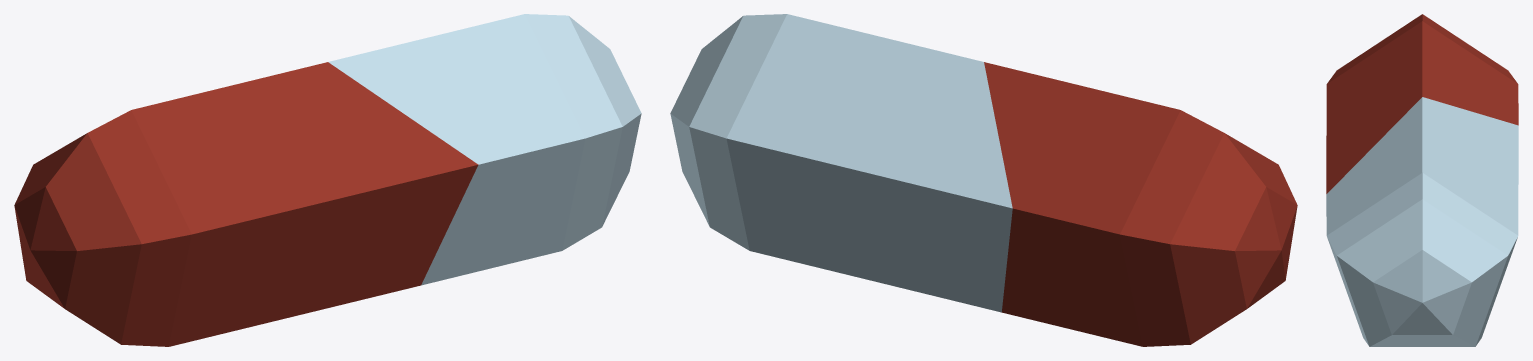
The model's file is SM_Prop_Pills_04.fbx.
3 views of the same model, side by side, from view 1: azimuth 30°, elevation 25°; view 2: azimuth 150°, elevation 25°; view 3: azimuth 270°, elevation 25° (orthographic). The views are drawn at different scales.
Visible parts, largest first — view 1: SM_Prop_Pills_04; view 2: SM_Prop_Pills_04; view 3: SM_Prop_Pills_04.
Part boxes in pixels (bbox=[...]): SM_Prop_Pills_04: bbox=[14, 14, 641, 346]; SM_Prop_Pills_04: bbox=[670, 14, 1297, 346]; SM_Prop_Pills_04: bbox=[1326, 14, 1518, 346].
Bounding box in the file's own units: 6.14 × 2.06 × 2.18.
